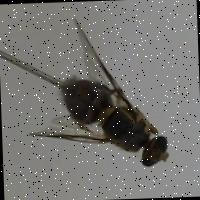Oriental-fruit-fly: (28, 26, 178, 170)
